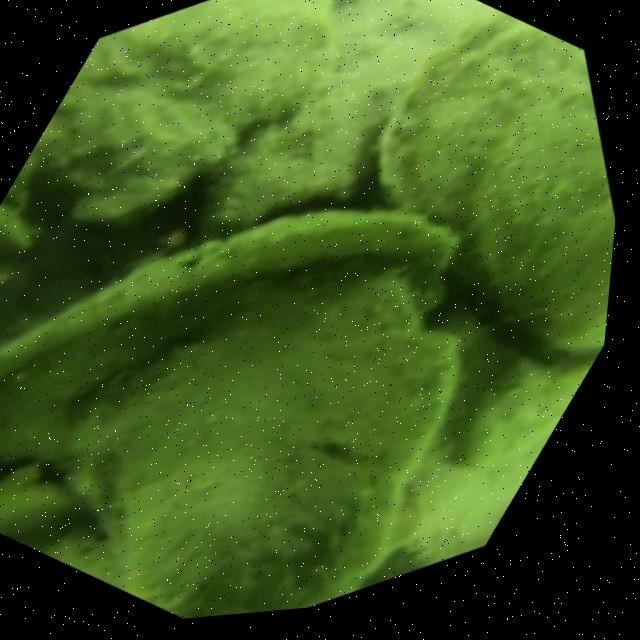Oyster-Closed: (60, 260, 454, 619)
Oyster-Indeterminate: (0, 203, 455, 470), (368, 8, 614, 351), (35, 0, 342, 224)
